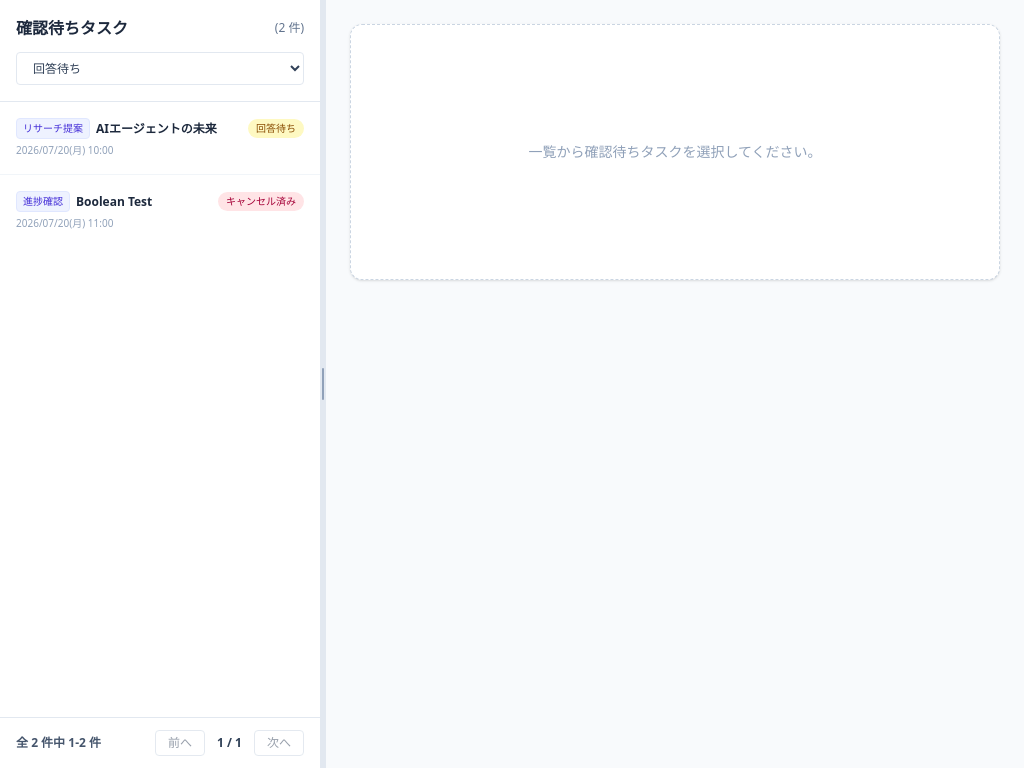
Test: HitlPage › initializes boolean questions to true by default
Click the text "AIエージェントの未来". click: (156, 128)
box: [96, 120, 217, 136]
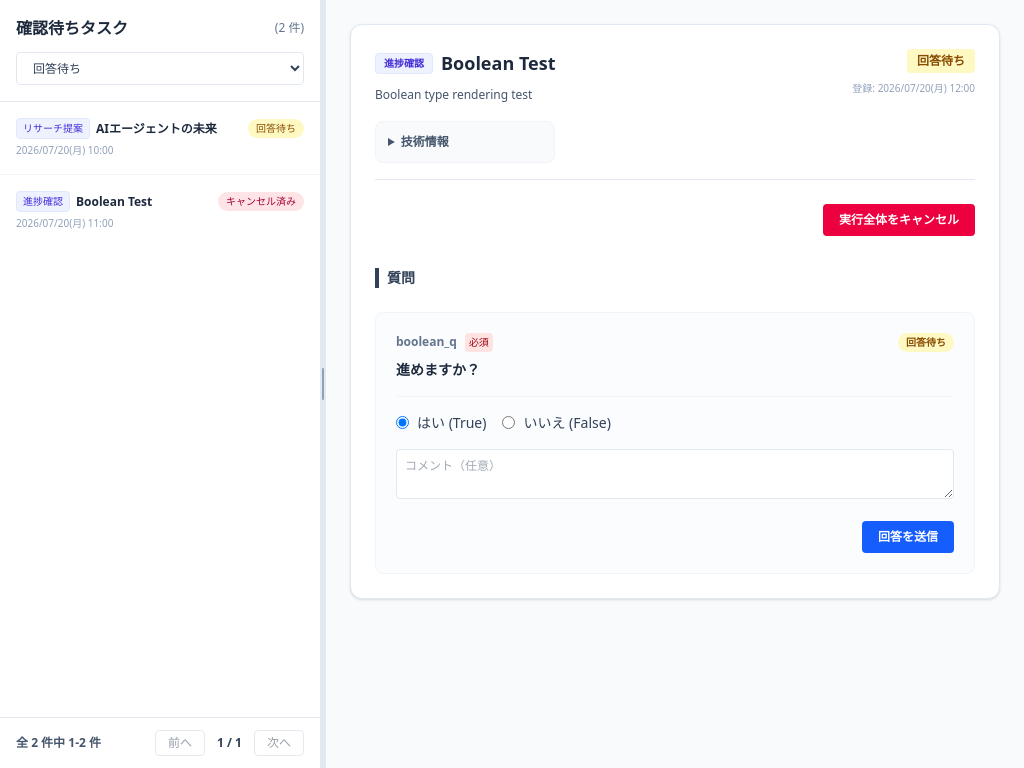
Expected: the text "Boolean Test" is shown, [76, 194, 152, 210]
Expected: the radio button labelled "はい (True)" is checked, [396, 416, 409, 429]
